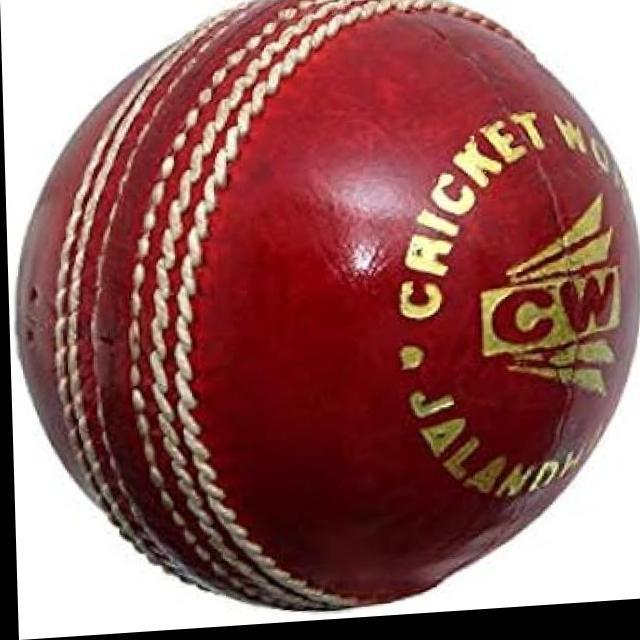cricket ball: (12, 0, 640, 619)
